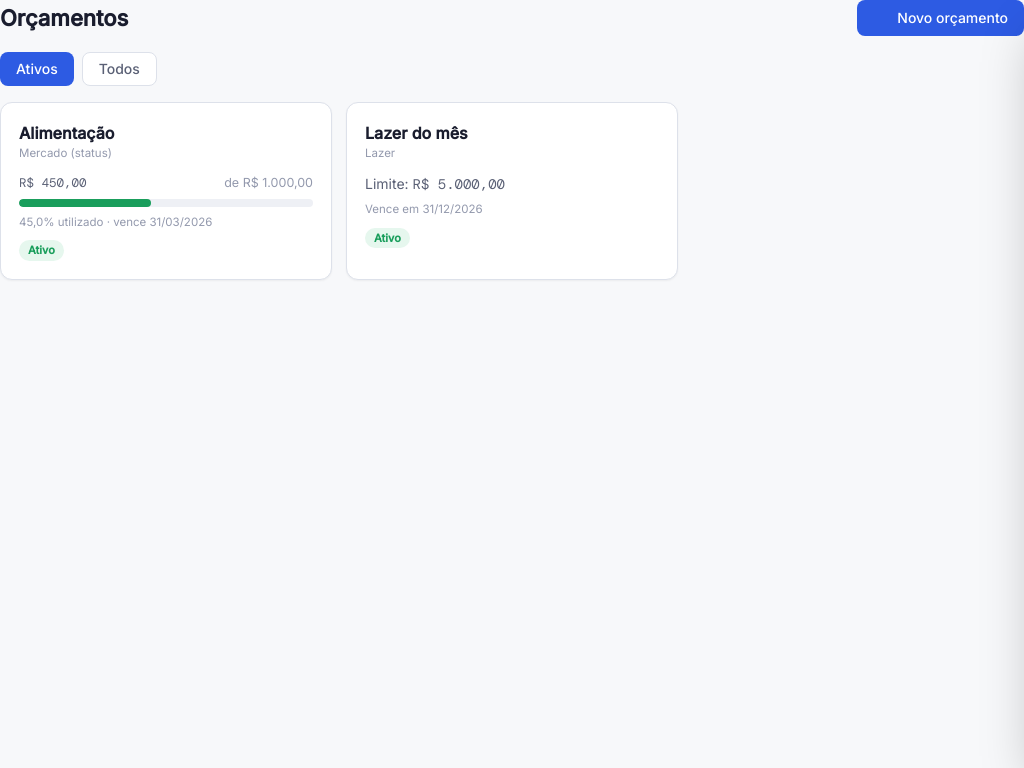
Test: Orcamentos › novo orçamento › erro ao salvar mostra a mensagem e mantém o formulário aberto
Click the button "Novo orçamento".
click(941, 18)  # box [857,0,1023,36]
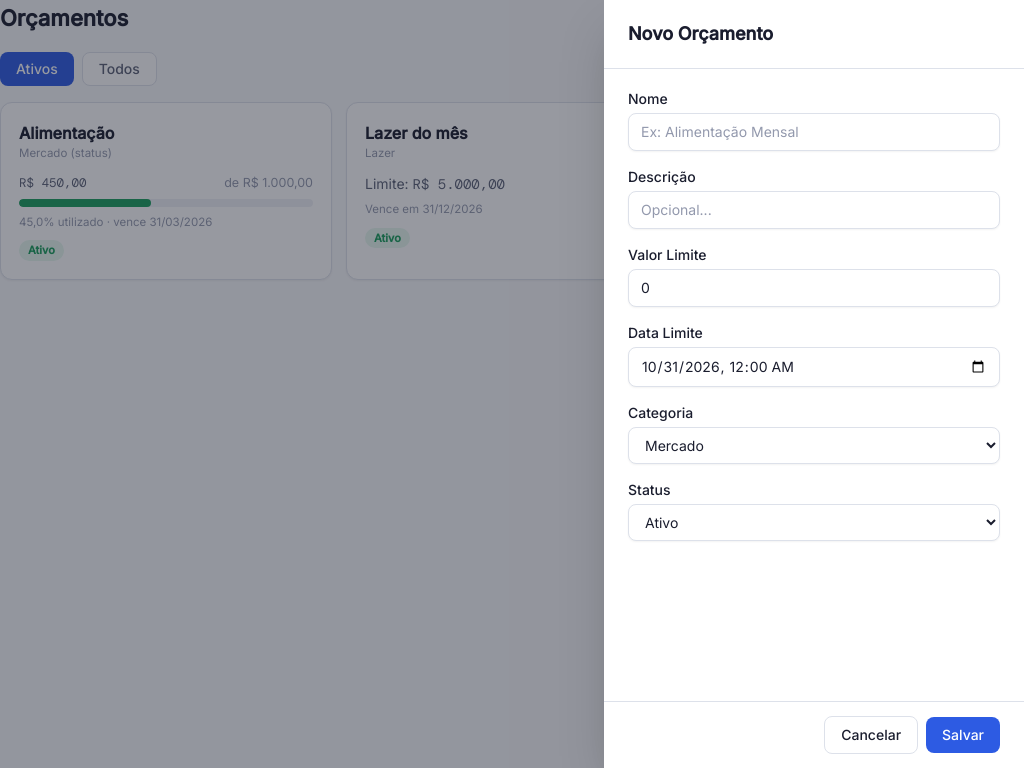
Type "Farmácia" into the field labelled "Nome".
click(814, 132); type("Farmácia")  # box [628,113,1000,151]
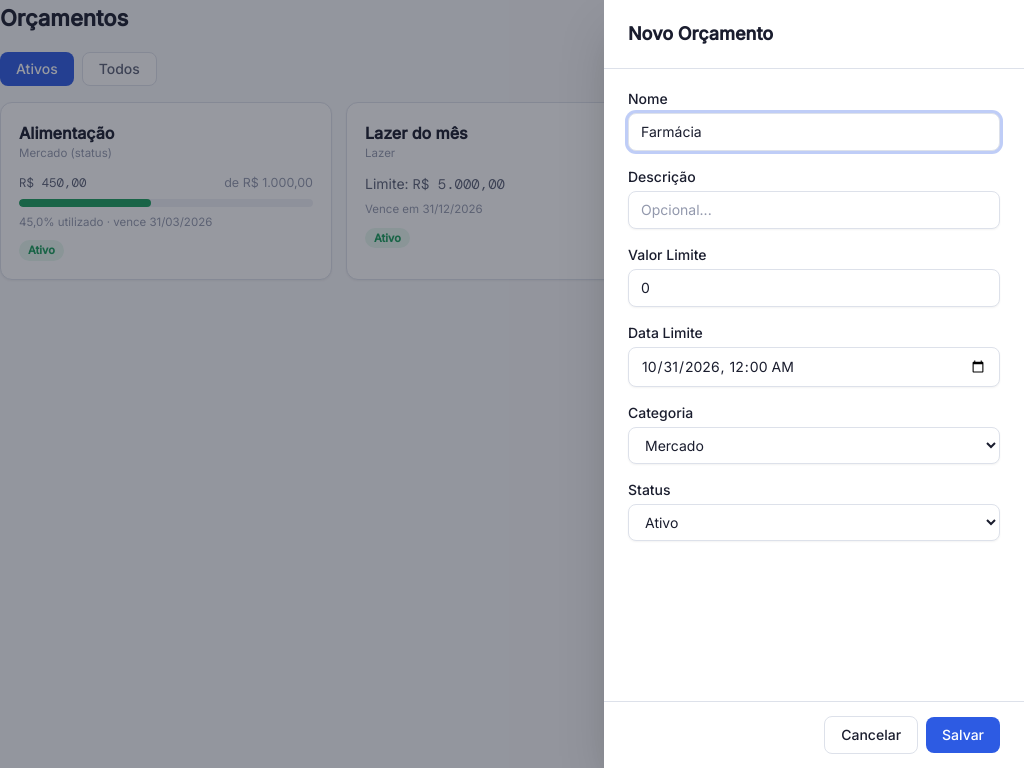
Click the button "Salvar".
click(963, 735)  # box [926,717,1000,753]
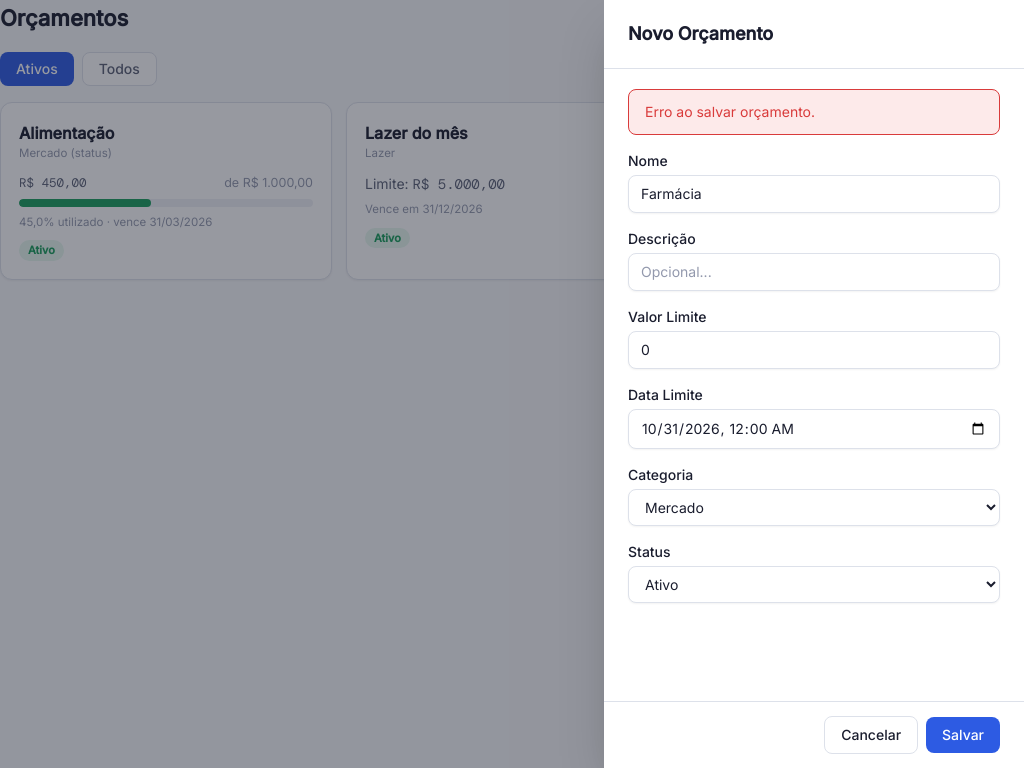
Now the text "Erro ao salvar orçamento." is shown, box [628,89,1000,135]
